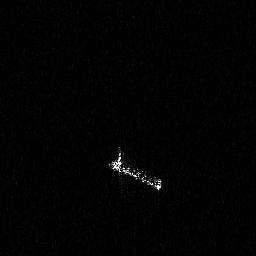ship: (106, 146, 164, 195)
